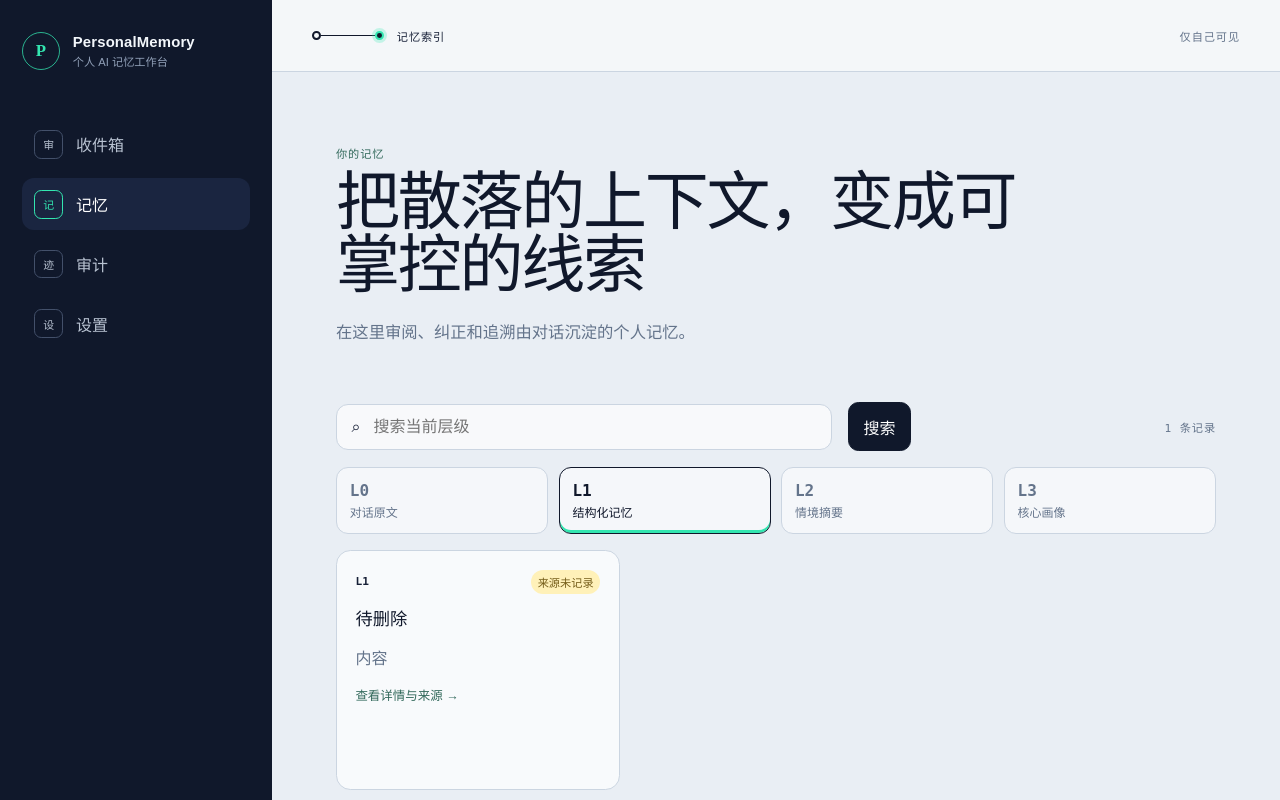
Test: PersonalMemory Web › requires exact confirmation and explains controlled deletion scope
The width and height of the screenshot is (1280, 800).
Click the text "待删除" at [381, 620], box [355,610,407,629]
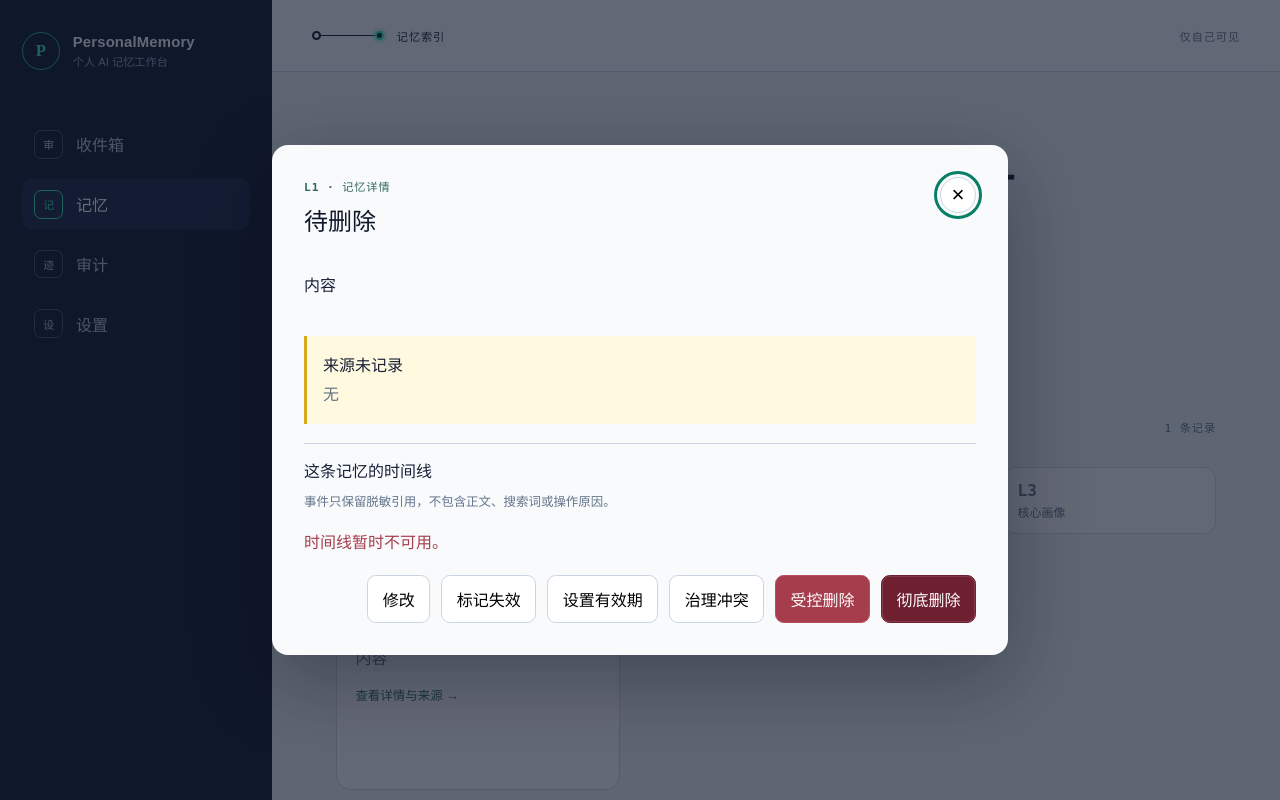
Click the button "受控删除" at [823, 599], box [775,575,870,623]
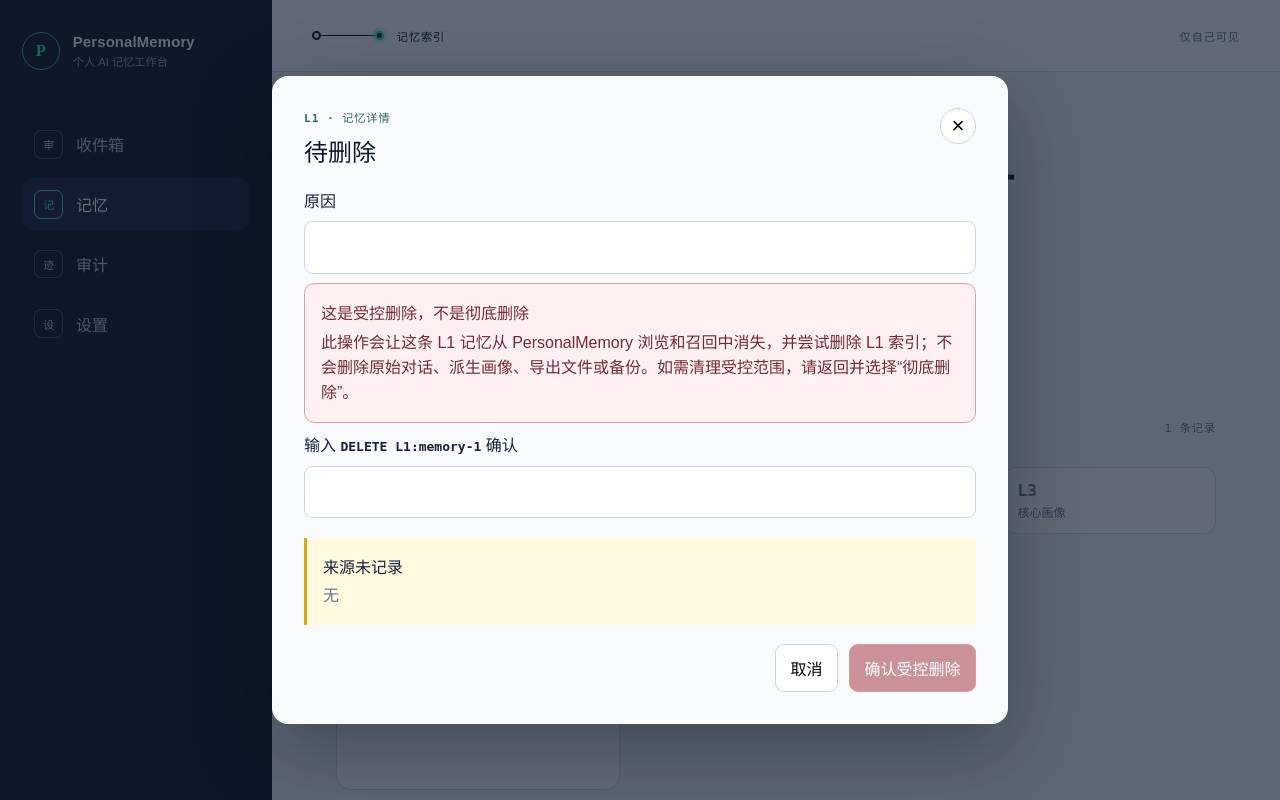
Expected: the text "这是受控删除，不是彻底删除" is shown, [321,305,529,322]
Expected: the text "不会删除原始对话、派生画像、导出文件或备份" is shown, [321,334,952,401]
Expected: the button "确认受控删除" is disabled, [849,644,976,692]
